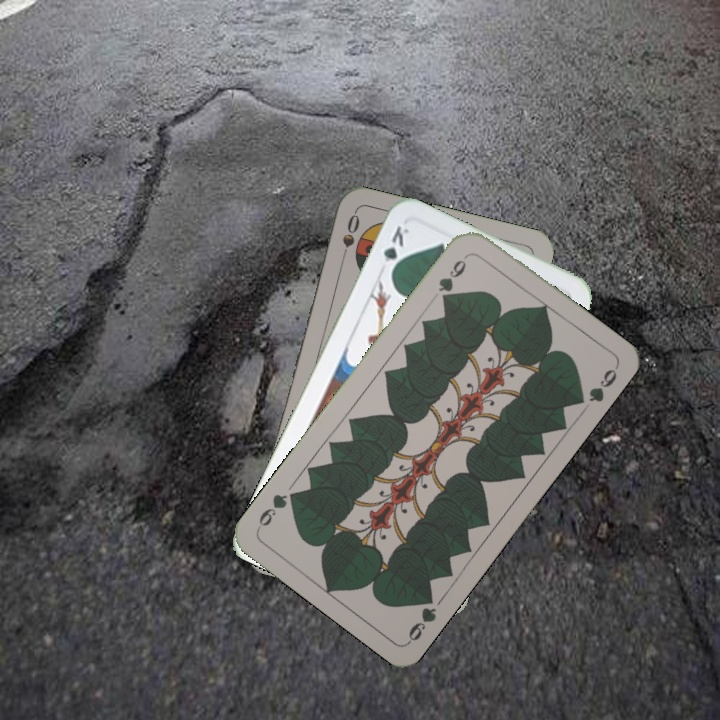G9: (434, 251, 471, 305), (404, 588, 439, 645)
GK: (379, 221, 412, 279)
SO: (336, 210, 362, 268)
